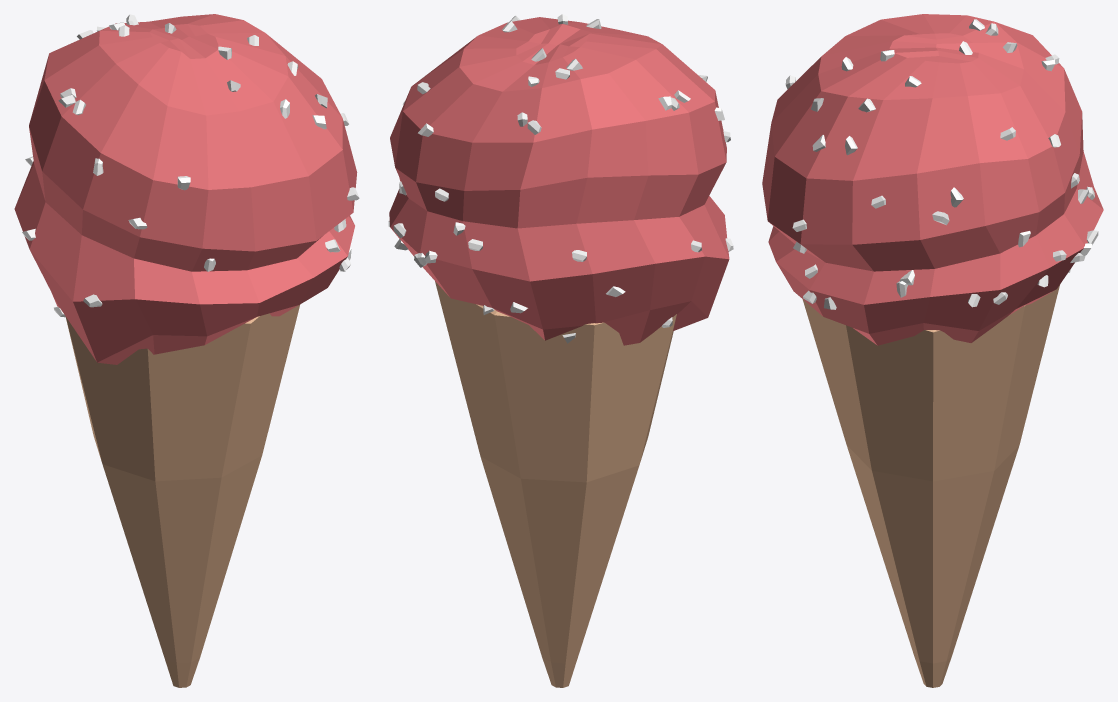
The model's file is Ice cream.fbx.
3 renders of one model, left to right at view 1: azimuth 30°, elevation 25°; view 2: azimuth 150°, elevation 25°; view 3: azimuth 270°, elevation 25°, orthographic.
Visible parts, largest first — view 1: Ice cream; view 2: Ice cream; view 3: Ice cream.
Boxes of the visible parts, x1,y1,x2,y2 form: Ice cream: (14,14,359,687); Ice cream: (388,14,733,687); Ice cream: (762,14,1103,687).
Bounding box in the file's own units: 25.74 × 53.19 × 25.43.
